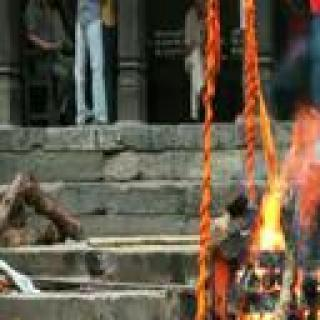fire: (259, 109, 320, 320)
